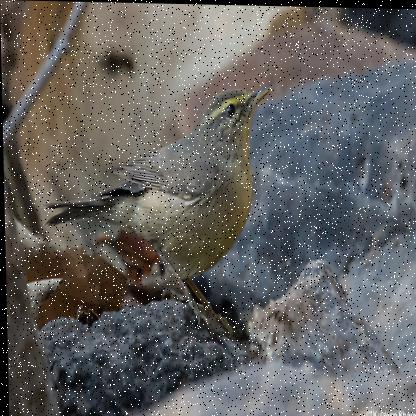Burung: (39, 72, 278, 322)
